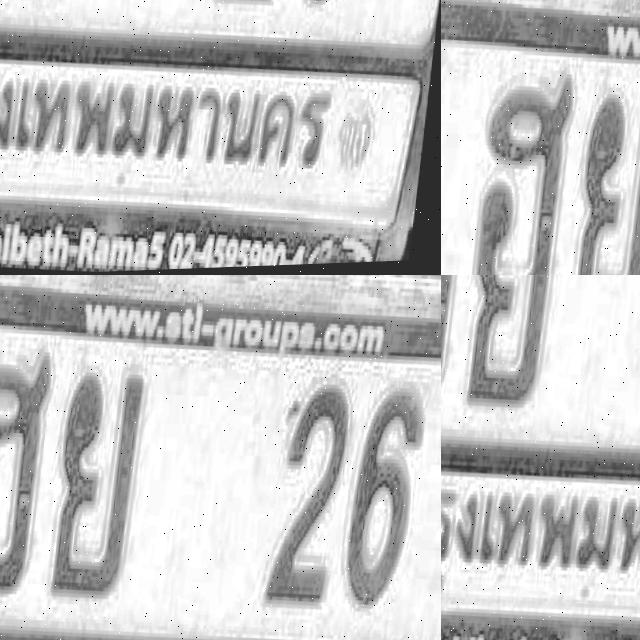license-plate: (441, 275, 640, 640), (0, 275, 108, 536)
